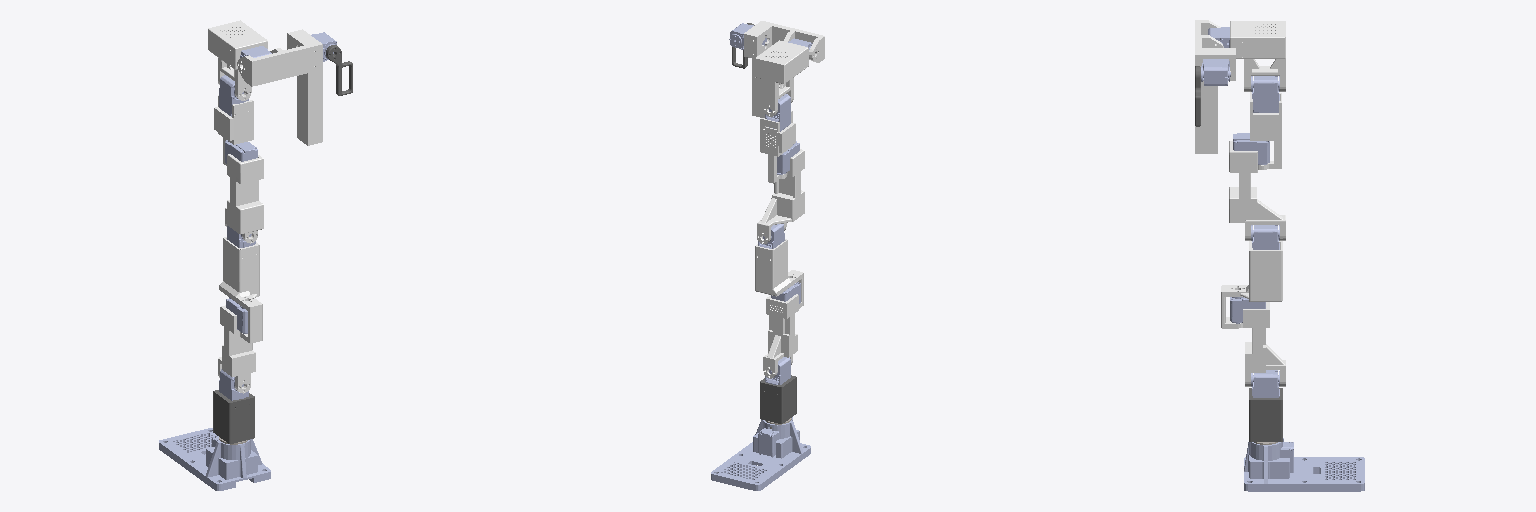
The robot description file, URDF, robot "gello_flexiv_urdf2":
<?xml version="1.0" encoding="utf-8"?>
<!-- This URDF was automatically created by SolidWorks to URDF Exporter! Originally created by Stephen Brawner (brawner@gmail.com) 
     Commit Version: 1.6.0-4-g7f85cfe  Build Version: 1.6.7995.38578
     For more information, please see http://wiki.ros.org/sw_urdf_exporter -->
<robot
  name="gello_flexiv_urdf2">
    <link name="world"/>
  <joint name="joint0" type="fixed">
    <origin rpy="0 0 1.57079632679" xyz="0 0 0" />
    <parent link="world" />
    <child link="base_link" />
  </joint>
  <link
    name="base_link">
    <inertial>
      <origin
        xyz="0.0315255497972083 0.000121734064555817 0.0127044483288502"
        rpy="0 0 0" />
      <mass
        value="0.140781229185535" />
      <inertia
        ixx="9.57436302937677E-05"
        ixy="-1.03738838318003E-06"
        ixz="3.48564950250386E-05"
        iyy="0.000276934775246851"
        iyz="1.32094089368854E-07"
        izz="0.000328420600123338" />
    </inertial>
    <visual>
      <origin
        xyz="0 0 0"
        rpy="0 0 0" />
      <geometry>
        <mesh
          filename="package://gello_flexiv_urdf2/meshes/base_link.STL" />
      </geometry>
      <material
        name="">
        <color
          rgba="0.792156862745098 0.819607843137255 0.933333333333333 1" />
      </material>
    </visual>
    <collision>
      <origin
        xyz="0 0 0"
        rpy="0 0 0" />
      <geometry>
        <mesh
          filename="package://gello_flexiv_urdf2/meshes/base_link.STL" />
      </geometry>
    </collision>
  </link>
  <link
    name="link1">
    <inertial>
      <origin
        xyz="-4.21087791961303E-06 4.13780121277796E-13 0.0162132800172582"
        rpy="0 0 0" />
      <mass
        value="0.0621984978756422" />
      <inertia
        ixx="2.62615211798585E-05"
        ixy="2.08797382809487E-13"
        ixz="-5.99006972017266E-08"
        iyy="2.83859325635614E-05"
        iyz="5.88732937575974E-15"
        izz="1.99124702914227E-05" />
    </inertial>
    <visual>
      <origin
        xyz="0 0 0"
        rpy="0 0 0" />
      <geometry>
        <mesh
          filename="package://gello_flexiv_urdf2/meshes/link1.STL" />
      </geometry>
      <material
        name="">
        <color
          rgba="0.501960784313725 0.501960784313725 0.501960784313725 0.25" />
      </material>
    </visual>
    <collision>
      <origin
        xyz="0 0 0"
        rpy="0 0 0" />
      <geometry>
        <mesh
          filename="package://gello_flexiv_urdf2/meshes/link1.STL" />
      </geometry>
    </collision>
  </link>
  <joint
    name="joint1"
    type="continuous">
    <origin
      xyz="0 0 0.0657"
      rpy="0 0 3.14159265359" />
    <parent
      link="base_link" />
    <child
      link="link1" />
    <axis
      xyz="0 0 1" />
    <limit
      lower="-1.57"
      upper="1.57"
      effort="500"
      velocity="10" />
  </joint>
  <link
    name="link2">
    <inertial>
      <origin
        xyz="-0.017356770849521 0.0469455162135182 2.79882157916966E-05"
        rpy="0 0 0" />
      <mass
        value="0.0634542150680963" />
      <inertia
        ixx="5.14095077712474E-05"
        ixy="-2.28288942865565E-06"
        ixz="-4.32227084322172E-09"
        iyy="1.39386634834845E-05"
        iyz="-1.0653181716239E-08"
        izz="5.3268196720201E-05" />
    </inertial>
    <visual>
      <origin
        xyz="0 0 0"
        rpy="0 0 0" />
      <geometry>
        <mesh
          filename="package://gello_flexiv_urdf2/meshes/link2.STL" />
      </geometry>
      <material
        name="">
        <color
          rgba="1 1 1 1" />
      </material>
    </visual>
    <collision>
      <origin
        xyz="0 0 0"
        rpy="0 0 0" />
      <geometry>
        <mesh
          filename="package://gello_flexiv_urdf2/meshes/link2.STL" />
      </geometry>
    </collision>
  </link>
  <joint
    name="joint2"
    type="continuous">
    <origin
      xyz="0.0255500000000018 0 0.0697"
      rpy="1.5707963267949 0 0" />
    <parent
      link="link1" />
    <child
      link="link2" />
    <axis
      xyz="1 0 0" />
    <limit
      lower="-1.57"
      upper="1.57"
      effort="500"
      velocity="10" />
  </joint>
  <link
    name="link3">
    <inertial>
      <origin
        xyz="-0.0284790389864295 0.0161619247586463 -0.00878838374845518"
        rpy="0 0 0" />
      <mass
        value="0.0814089715061094" />
      <inertia
        ixx="5.40916273849586E-05"
        ixy="2.00095372177817E-05"
        ixz="-4.35787997925048E-06"
        iyy="3.93655693951892E-05"
        iyz="5.26002307933997E-06"
        izz="7.84285976150235E-05" />
    </inertial>
    <visual>
      <origin
        xyz="0 0 0"
        rpy="0 0 0" />
      <geometry>
        <mesh
          filename="package://gello_flexiv_urdf2/meshes/link3.STL" />
      </geometry>
      <material
        name="">
        <color
          rgba="1 1 1 0.25" />
      </material>
    </visual>
    <collision>
      <origin
        xyz="0 0 0"
        rpy="0 0 0" />
      <geometry>
        <mesh
          filename="package://gello_flexiv_urdf2/meshes/link3.STL" />
      </geometry>
    </collision>
  </link>
  <joint
    name="joint3"
    type="continuous">
    <origin
      xyz="0.00921665402076984 0.12307958857722 3.33330000000243E-05"
      rpy="0 0 0" />
    <parent
      link="link2" />
    <child
      link="link3" />
    <axis
      xyz="0 1 0" />
    <limit
      lower="-1.57"
      upper="1.57"
      effort="500"
      velocity="10" />
  </joint>
  <link
    name="link4">
    <inertial>
      <origin
        xyz="0.00894062791591538 0.0484657561314081 0.00124676533207311"
        rpy="0 0 0" />
      <mass
        value="0.0813230974830534" />
      <inertia
        ixx="8.9445092399936E-05"
        ixy="-3.80723038807162E-06"
        ixz="3.35722644846171E-06"
        iyy="2.75337401547388E-05"
        iyz="1.41399166609116E-05"
        izz="8.04628078078953E-05" />
    </inertial>
    <visual>
      <origin
        xyz="0 0 0"
        rpy="0 0 0" />
      <geometry>
        <mesh
          filename="package://gello_flexiv_urdf2/meshes/link4.STL" />
      </geometry>
      <material
        name="">
        <color
          rgba="1 1 1 0.25" />
      </material>
    </visual>
    <collision>
      <origin
        xyz="0 0 0"
        rpy="0 0 0" />
      <geometry>
        <mesh
          filename="package://gello_flexiv_urdf2/meshes/link4.STL" />
      </geometry>
    </collision>
  </link>
  <joint
    name="joint4"
    type="continuous">
    <origin
      xyz="-0.00921665402077129 0.0809234768240403 -0.0106666630000012"
      rpy="0 -1.57079631189374 0" />
    <parent
      link="link3" />
    <child
      link="link4" />
    <axis
      xyz="0 0 1" />
    <limit
      lower="-1.57"
      upper="1.57"
      effort="500"
      velocity="10" />
  </joint>
  <link
    name="link5">
    <inertial>
      <origin
        xyz="-0.00825069579847031 0.000752856337642716 0.0566852108854959"
        rpy="0 0 0" />
      <mass
        value="0.0387205636578301" />
      <inertia
        ixx="2.08544862011903E-05"
        ixy="-6.27474995798638E-08"
        ixz="-1.49070308001189E-06"
        iyy="2.34457028681213E-05"
        iyz="-9.92901086065245E-08"
        izz="1.07441635450713E-05" />
    </inertial>
    <visual>
      <origin
        xyz="0 0 0"
        rpy="0 0 0" />
      <geometry>
        <mesh
          filename="package://gello_flexiv_urdf2/meshes/link5.STL" />
      </geometry>
      <material
        name="">
        <color
          rgba="1 1 1 0.25" />
      </material>
    </visual>
    <collision>
      <origin
        xyz="0 0 0"
        rpy="0 0 0" />
      <geometry>
        <mesh
          filename="package://gello_flexiv_urdf2/meshes/link5.STL" />
      </geometry>
    </collision>
  </link>
  <joint
    name="joint5"
    type="continuous">
    <origin
      xyz="0.0106666630000012 0.0853109685342546 0.019983333"
      rpy="1.57079632541792 1.5707962257303 3.14159265221282" />
    <parent
      link="link4" />
    <child
      link="link5" />
    <axis
      xyz="0 0 1" />
    <limit
      lower="-1.57"
      upper="1.57"
      effort="500"
      velocity="10" />
  </joint>
  <link
    name="link6">
    <inertial>
      <origin
        xyz="2.9010774341004E-05 0.0527704329614103 0.0221276294239764"
        rpy="0 0 0" />
      <mass
        value="0.101556527752481" />
      <inertia
        ixx="6.93870867973033E-05"
        ixy="-1.66442002348779E-08"
        ixz="1.1520733167107E-07"
        iyy="5.2447358967855E-05"
        iyz="3.32301226117133E-06"
        izz="5.25562821974119E-05" />
    </inertial>
    <visual>
      <origin
        xyz="0 0 0"
        rpy="0 0 0" />
      <geometry>
        <mesh
          filename="package://gello_flexiv_urdf2/meshes/link6.STL" />
      </geometry>
      <material
        name="">
        <color
          rgba="1 1 1 1" />
      </material>
    </visual>
    <collision>
      <origin
        xyz="0 0 0"
        rpy="0 0 0" />
      <geometry>
        <mesh
          filename="package://gello_flexiv_urdf2/meshes/link6.STL" />
      </geometry>
    </collision>
  </link>
  <joint
    name="joint6"
    type="continuous">
    <origin
      xyz="0.0212633330032754 3.33309101373525E-05 0.113352666064485"
      rpy="1.5707963267949 0 -1.57079642507971" />
    <parent
      link="link5" />
    <child
      link="link6" />
    <axis
      xyz="0 0 -1" />
    <limit
      lower="-1.57"
      upper="1.57"
      effort="500"
      velocity="10" />
  </joint>
  <link
    name="link7">
    <inertial>
      <origin
        xyz="0.0115462443760522 -0.0358130813406185 -0.0862447505758081"
        rpy="0 0 0" />
      <mass
        value="0.115883973511651" />
      <inertia
        ixx="0.000279613444610212"
        ixy="1.93768566410548E-06"
        ixz="-9.18540450167261E-06"
        iyy="0.000107438540990293"
        iyz="-6.36667375327968E-05"
        izz="0.000204708564388458" />
    </inertial>
    <visual>
      <origin
        xyz="0 0 0"
        rpy="0 0 0" />
      <geometry>
        <mesh
          filename="package://gello_flexiv_urdf2/meshes/link7.STL" />
      </geometry>
      <material
        name="">
        <color
          rgba="1 1 1 1" />
      </material>
    </visual>
    <collision>
      <origin
        xyz="0 0 0"
        rpy="0 0 0" />
      <geometry>
        <mesh
          filename="package://gello_flexiv_urdf2/meshes/link7.STL" />
      </geometry>
    </collision>
  </link>
  <joint
    name="joint7"
    type="continuous">
    <origin
      xyz="0.0353049999999996 0.0579166699999999 -0.0351100000000009"
      rpy="0 1.5707963267949 0" />
    <parent
      link="link6" />
    <child
      link="link7" />
    <axis
      xyz="0 0 -1" />
    <limit
      lower="-1.57"
      upper="1.57"
      effort="0"
      velocity="0" />
  </joint>
  <link
    name="link8">
    <inertial>
      <origin
        xyz="0.00886140708441988 -0.0228890869870135 -0.00344999937626646"
        rpy="0 0 0" />
      <mass
        value="0.00514149442948945" />
      <inertia
        ixx="2.28620915613273E-06"
        ixy="6.24081825748693E-07"
        ixz="-5.88330962226554E-14"
        iyy="4.89003931988539E-07"
        iyz="-1.84456458054666E-13"
        izz="2.73600261808974E-06" />
    </inertial>
    <visual>
      <origin
        xyz="0 0 0"
        rpy="0 0 0" />
      <geometry>
        <mesh
          filename="package://gello_flexiv_urdf2/meshes/link8.STL" />
      </geometry>
      <material
        name="">
        <color
          rgba="0.501960784313725 0.501960784313725 0.501960784313725 1" />
      </material>
    </visual>
    <collision>
      <origin
        xyz="0 0 0"
        rpy="0 0 0" />
      <geometry>
        <mesh
          filename="package://gello_flexiv_urdf2/meshes/link8.STL" />
      </geometry>
    </collision>
  </link>
  <joint
    name="joint8"
    type="continuous">
    <origin
      xyz="0.025884 -0.00025 -0.12979"
      rpy="0 1.5708 0" />
    <parent
      link="link7" />
    <child
      link="link8" />
    <axis
      xyz="0 0 1" />
    <limit
      lower="-1.57"
      upper="1.57"
      effort="0"
      velocity="0" />
  </joint>

  <link name="flange"/>
  <joint name="link7_to_flange" type="fixed">
      <parent link="link7" />
      <child link="flange" />
      <origin rpy="0 3.1416 1.57" xyz="0.0 0.0 -0.0515"/>
  </joint>
  <link
    name="motor7">
    <inertial>
      <origin
        xyz="-0.010121589793187 2.76039113018822E-07 -0.0239109423757536"
        rpy="0 0 0" />
      <mass
        value="0.0118632614816526" />
      <inertia
        ixx="8.37247908624793E-07"
        ixy="1.36625214558788E-09"
        ixz="1.0764708242377E-08"
        iyy="1.98969988213774E-06"
        iyz="7.13386796540872E-11"
        izz="2.5734883184239E-06" />
    </inertial>
    <visual>
      <origin
        xyz="0 0 0"
        rpy="0 0 0" />
      <geometry>
        <mesh
          filename="package://gello_flexiv_urdf2/meshes/motor7.STL" />
      </geometry>
      <material
        name="">
        <color
          rgba="0.792156862745098 0.819607843137255 0.933333333333333 1" />
      </material>
    </visual>
    <collision>
      <origin
        xyz="0 0 0"
        rpy="0 0 0" />
      <geometry>
        <mesh
          filename="package://gello_flexiv_urdf2/meshes/motor7.STL" />
      </geometry>
    </collision>
  </link>
  <joint
    name="m7"
    type="fixed">
    <origin
      xyz="0.025884 -0.00025 -0.12979"
      rpy="0 1.5708 0" />
    <parent
      link="link7" />
    <child
      link="motor7" />
    <axis
      xyz="0 0 0" />
  </joint>
  <link
    name="motor6">
    <inertial>
      <origin
        xyz="-0.0101215843255288 2.79052287090187E-07 -0.0335159462367496"
        rpy="0 0 0" />
      <mass
        value="0.0118632568925294" />
      <inertia
        ixx="8.37247601555827E-07"
        ixy="1.36663345133716E-09"
        ixz="1.07647638813062E-08"
        iyy="1.98969938029896E-06"
        iyz="7.1383137519647E-11"
        izz="2.57348752154214E-06" />
    </inertial>
    <visual>
      <origin
        xyz="0 0 0"
        rpy="0 0 0" />
      <geometry>
        <mesh
          filename="package://gello_flexiv_urdf2/meshes/motor6.STL" />
      </geometry>
      <material
        name="">
        <color
          rgba="0.792156862745098 0.819607843137255 0.933333333333333 1" />
      </material>
    </visual>
    <collision>
      <origin
        xyz="0 0 0"
        rpy="0 0 0" />
      <geometry>
        <mesh
          filename="package://gello_flexiv_urdf2/meshes/motor6.STL" />
      </geometry>
    </collision>
  </link>
  <joint
    name="m6"
    type="fixed">
    <origin
      xyz="0.0353049999999996 0.0579166699999999 -0.0351100000000009"
      rpy="0 1.5707963267949 0" />
    <parent
      link="link6" />
    <child
      link="motor6" />
    <axis
      xyz="0 0 0" />
  </joint>
  <link
    name="motor5">
    <inertial>
      <origin
        xyz="2.78976974937839E-07 -0.0101215842859416 0.0250409461353824"
        rpy="0 0 0" />
      <mass
        value="0.0118632567923327" />
      <inertia
        ixx="1.98969938269135E-06"
        ixy="1.36662978651049E-09"
        ixz="-7.13819059962462E-11"
        iyy="8.37247590733789E-07"
        iyz="-1.07647639793793E-08"
        izz="2.57348751335362E-06" />
    </inertial>
    <visual>
      <origin
        xyz="0 0 0"
        rpy="0 0 0" />
      <geometry>
        <mesh
          filename="package://gello_flexiv_urdf2/meshes/motor5.STL" />
      </geometry>
      <material
        name="">
        <color
          rgba="0.792156862745098 0.819607843137255 0.933333333333333 1" />
      </material>
    </visual>
    <collision>
      <origin
        xyz="0 0 0"
        rpy="0 0 0" />
      <geometry>
        <mesh
          filename="package://gello_flexiv_urdf2/meshes/motor5.STL" />
      </geometry>
    </collision>
  </link>
  <joint
    name="m5"
    type="fixed">
    <origin
      xyz="0.0212633330032754 3.33309101373525E-05 0.113352666064485"
      rpy="1.5707963267949 0 -1.57079642507971" />
    <parent
      link="link5" />
    <child
      link="motor5" />
    <axis
      xyz="0 0 0" />
  </joint>
  <link
    name="motor4">
    <inertial>
      <origin
        xyz="0.010121590751617 -2.77597699355203E-07 0.0263390580800478"
        rpy="0 0 0" />
      <mass
        value="0.0118632620836704" />
      <inertia
        ixx="8.37248121295153E-07"
        ixy="1.36655957812441E-09"
        ixz="-1.07646984821267E-08"
        iyy="1.98970007409389E-06"
        iyz="-7.13417521363059E-11"
        izz="2.57348871845048E-06" />
    </inertial>
    <visual>
      <origin
        xyz="0 0 0"
        rpy="0 0 0" />
      <geometry>
        <mesh
          filename="package://gello_flexiv_urdf2/meshes/motor4.STL" />
      </geometry>
      <material
        name="">
        <color
          rgba="0.792156862745098 0.819607843137255 0.933333333333333 1" />
      </material>
    </visual>
    <collision>
      <origin
        xyz="0 0 0"
        rpy="0 0 0" />
      <geometry>
        <mesh
          filename="package://gello_flexiv_urdf2/meshes/motor4.STL" />
      </geometry>
    </collision>
  </link>
  <joint
    name="m4"
    type="fixed">
    <origin
      xyz="0.0106666630000012 0.0853109685342546 0.019983333"
      rpy="1.57079632541792 1.5707962257303 3.14159265221282" />
    <parent
      link="link4" />
    <child
      link="motor4" />
    <axis
      xyz="0 0 0" />
  </joint>
  <link
    name="motor3">
    <inertial>
      <origin
        xyz="2.75991214979121E-07 -0.0101215898657823 0.0237609422566216"
        rpy="0 0 0" />
      <mass
        value="0.0118632614714136" />
      <inertia
        ixx="1.98969989656007E-06"
        ixy="1.36623571498087E-09"
        ixz="-7.13407176228388E-11"
        iyy="8.37247915896705E-07"
        iyz="-1.0764709686632E-08"
        izz="2.5734883399686E-06" />
    </inertial>
    <visual>
      <origin
        xyz="0 0 0"
        rpy="0 0 0" />
      <geometry>
        <mesh
          filename="package://gello_flexiv_urdf2/meshes/motor3.STL" />
      </geometry>
      <material
        name="">
        <color
          rgba="0.792156862745098 0.819607843137255 0.933333333333333 1" />
      </material>
    </visual>
    <collision>
      <origin
        xyz="0 0 0"
        rpy="0 0 0" />
      <geometry>
        <mesh
          filename="package://gello_flexiv_urdf2/meshes/motor3.STL" />
      </geometry>
    </collision>
  </link>
  <joint
    name="m3"
    type="fixed">
    <origin
      xyz="-0.00921665402077129 0.0809234768240403 -0.0106666630000012"
      rpy="0 -1.57079631189374 0" />
    <parent
      link="link3" />
    <child
      link="motor3" />
    <axis
      xyz="0 0 0" />
  </joint>
  <link
    name="motor2">
    <inertial>
      <origin
        xyz="-0.010121589987035 -0.0237109432615639 -2.74738200439772E-07"
        rpy="0 0 0" />
      <mass
        value="0.011863260254153" />
      <inertia
        ixx="8.3724790580166E-07"
        ixy="1.07647035684112E-08"
        ixz="-1.36631396097317E-09"
        iyy="2.57348828897427E-06"
        iyz="-7.13177445886509E-11"
        izz="1.98969985340098E-06" />
    </inertial>
    <visual>
      <origin
        xyz="0 0 0"
        rpy="0 0 0" />
      <geometry>
        <mesh
          filename="package://gello_flexiv_urdf2/meshes/motor2.STL" />
      </geometry>
      <material
        name="">
        <color
          rgba="0.792156862745098 0.819607843137255 0.933333333333333 1" />
      </material>
    </visual>
    <collision>
      <origin
        xyz="0 0 0"
        rpy="0 0 0" />
      <geometry>
        <mesh
          filename="package://gello_flexiv_urdf2/meshes/motor2.STL" />
      </geometry>
    </collision>
  </link>
  <joint
    name="m2"
    type="fixed">
    <origin
      xyz="0.00921665402076984 0.12307958857722 3.33330000000243E-05"
      rpy="0 0 0" />
    <parent
      link="link2" />
    <child
      link="motor2" />
    <axis
      xyz="0 0 0" />
  </joint>
  <link
    name="motor1">
    <inertial>
      <origin
        xyz="-0.0237609462046155 -0.0101215842953417 2.7894960544228E-07"
        rpy="0 0 0" />
      <mass
        value="0.0118632568475472" />
      <inertia
        ixx="2.57348751402183E-06"
        ixy="1.07647640276451E-08"
        ixz="7.13815538926017E-11"
        iyy="8.37247592416347E-07"
        iyz="1.36663057170338E-09"
        izz="1.98969938183772E-06" />
    </inertial>
    <visual>
      <origin
        xyz="0 0 0"
        rpy="0 0 0" />
      <geometry>
        <mesh
          filename="package://gello_flexiv_urdf2/meshes/motor1.STL" />
      </geometry>
      <material
        name="">
        <color
          rgba="0.792156862745098 0.819607843137255 0.933333333333333 1" />
      </material>
    </visual>
    <collision>
      <origin
        xyz="0 0 0"
        rpy="0 0 0" />
      <geometry>
        <mesh
          filename="package://gello_flexiv_urdf2/meshes/motor1.STL" />
      </geometry>
    </collision>
  </link>
  <joint
    name="m1"
    type="fixed">
    <origin
      xyz="0.0255500000000018 0 0.0697"
      rpy="1.5707963267949 0 0" />
    <parent
      link="link1" />
    <child
      link="motor1" />
    <axis
      xyz="0 0 0" />
  </joint>
  <link
    name="motor0">
    <inertial>
      <origin
        xyz="0.0101215910051871 -2.76757319200849E-07 0.0296890569565048"
        rpy="0 0 0" />
      <mass
        value="0.011863260755328" />
      <inertia
        ixx="8.3724806575594E-07"
        ixy="1.36660021991552E-09"
        ixz="-1.07646899813134E-08"
        iyy="1.98970003876679E-06"
        iyz="-7.13309025376444E-11"
        izz="2.57348863195122E-06" />
    </inertial>
    <visual>
      <origin
        xyz="0 0 0"
        rpy="0 0 0" />
      <geometry>
        <mesh
          filename="package://gello_flexiv_urdf2/meshes/motor0.STL" />
      </geometry>
      <material
        name="">
        <color
          rgba="0.792156862745098 0.819607843137255 0.933333333333333 1" />
      </material>
    </visual>
    <collision>
      <origin
        xyz="0 0 0"
        rpy="0 0 0" />
      <geometry>
        <mesh
          filename="package://gello_flexiv_urdf2/meshes/motor0.STL" />
      </geometry>
    </collision>
  </link>
  <joint
    name="m0"
    type="fixed">
    <origin
      xyz="0 0 0"
      rpy="0 0 0" />
    <parent
      link="base_link" />
    <child
      link="motor0" />
    <axis
      xyz="0 0 0" />
  </joint>
  <link
    name="bearing0">
    <inertial>
      <origin
        xyz="0 0 0.0508332627128862"
        rpy="0 0 0" />
      <mass
        value="0.00732807509677273" />
      <inertia
        ixx="8.25506712374265E-07"
        ixy="-9.57857916406971E-24"
        ixz="2.30791985604026E-23"
        iyy="8.25506712374265E-07"
        iyz="3.23573780250142E-24"
        izz="1.48942340530917E-06" />
    </inertial>
    <visual>
      <origin
        xyz="0 0 0"
        rpy="0 0 0" />
      <geometry>
        <mesh
          filename="package://gello_flexiv_urdf2/meshes/bearing0.STL" />
      </geometry>
      <material
        name="">
        <color
          rgba="0.776470588235294 0.756862745098039 0.737254901960784 1" />
      </material>
    </visual>
    <collision>
      <origin
        xyz="0 0 0"
        rpy="0 0 0" />
      <geometry>
        <mesh
          filename="package://gello_flexiv_urdf2/meshes/bearing0.STL" />
      </geometry>
    </collision>
  </link>
  <joint
    name="b0"
    type="fixed">
    <origin
      xyz="0 0 0"
      rpy="0 0 0" />
    <parent
      link="base_link" />
    <child
      link="bearing0" />
    <axis
      xyz="0 0 0" />
  </joint>
</robot>

--- Facts derived from the render (not from the file) ---
The picture shows the robot from 3 angles, left to right: view 1: azimuth 30°, elevation 25°; view 2: azimuth 150°, elevation 25°; view 3: azimuth 270°, elevation 25°; orthographic projection.
Model gello_flexiv_urdf2 with 20 links and 19 joints (8 continuous, 11 fixed), rooted at world, posed every joint at zero.
Visible links, largest first — view 1: link7, base_link, link3, link4, link6, link2, link1, link5, link8, motor5; view 2: base_link, link6, link7, link4, link2, link3, link1, link5; view 3: base_link, link6, link4, link7, link3, link2, link1, link5, motor5, motor7, motor1, motor3 (+1 smaller).
Boxes of the visible links, x1,y1,x2,y2 form: link7: (237, 29, 322, 145); base_link: (159, 428, 270, 490); link3: (219, 237, 262, 343); link4: (225, 154, 263, 243); link6: (208, 20, 267, 100); link2: (218, 305, 255, 393); link1: (213, 390, 254, 443); link5: (214, 95, 253, 165); link8: (326, 45, 352, 95); motor5: (219, 75, 248, 116); base_link: (711, 417, 810, 490); link6: (755, 40, 808, 116); link7: (744, 21, 824, 117); link4: (757, 149, 804, 243); link2: (763, 294, 798, 378); link3: (755, 239, 803, 308); link1: (760, 375, 796, 423); link5: (760, 111, 795, 183); base_link: (1244, 438, 1364, 491); link6: (1230, 21, 1285, 91); link4: (1229, 141, 1285, 240); link7: (1195, 20, 1235, 153); link3: (1221, 241, 1282, 328); link2: (1243, 302, 1285, 386); link1: (1249, 388, 1282, 441); link5: (1250, 92, 1281, 169); motor5: (1251, 76, 1279, 112); motor7: (1201, 59, 1230, 85); motor1: (1251, 370, 1279, 397); motor3: (1251, 225, 1279, 249).
Bounding box of the posed robot: 0.1615 × 0.2106 × 0.6133 m (x, y, z).
18 mesh visuals loaded from 18 distinct referenced files (18 binary STL).
